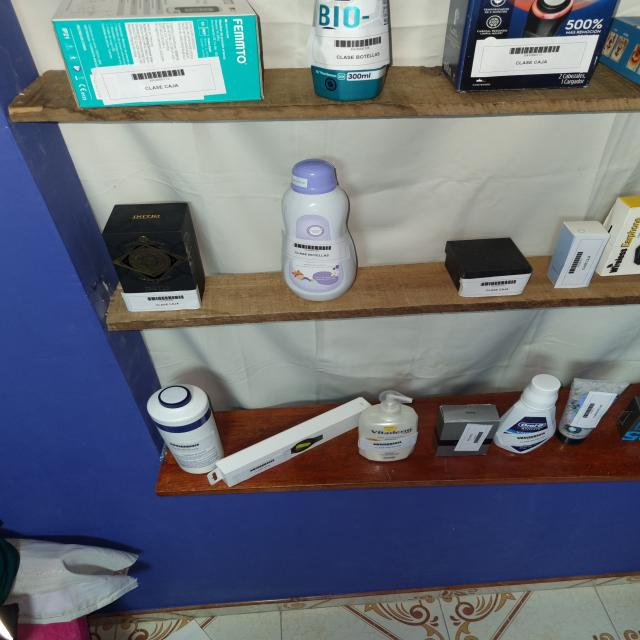botella: (281, 159, 358, 301), (307, 0, 392, 101), (147, 385, 224, 474), (493, 374, 561, 454), (358, 391, 418, 462), (558, 379, 622, 444)
caja: (53, 0, 264, 108), (442, 0, 617, 91), (208, 397, 372, 487), (103, 203, 205, 311), (445, 238, 532, 297), (547, 221, 609, 288), (605, 197, 640, 275)
